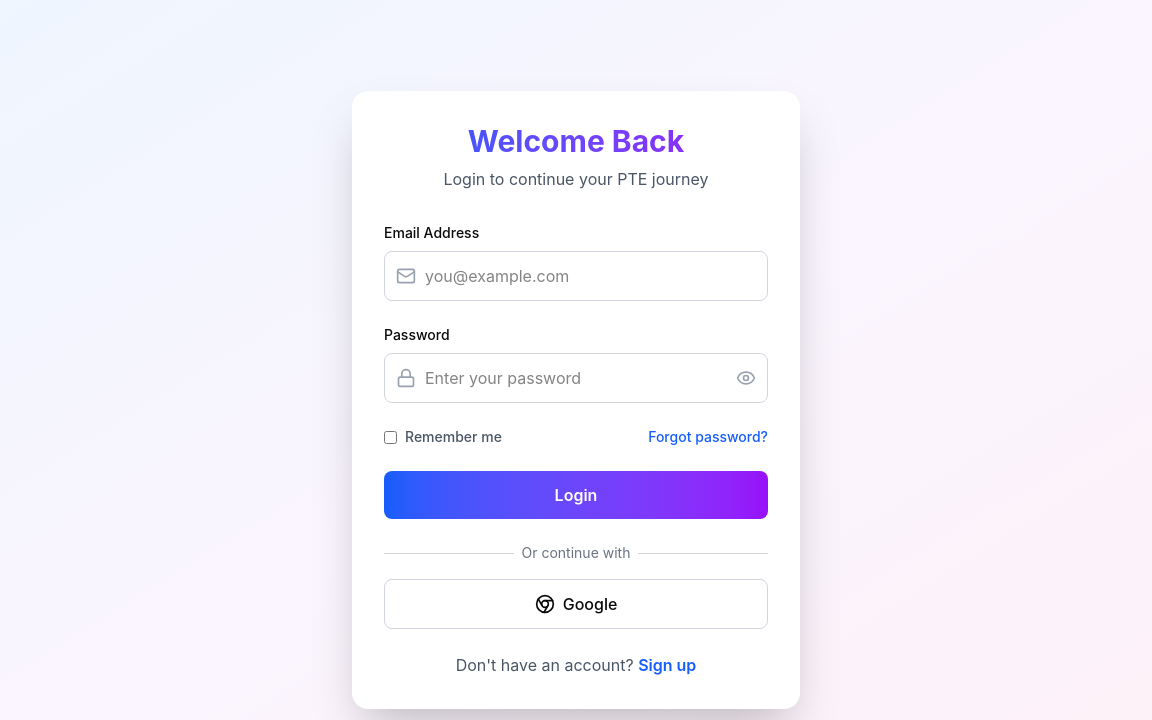
LoginPage - Forgot Password flow › switches to forgot password view on clicking 'Forgot password?'
The width and height of the screenshot is (1152, 720).
Step 1. Click the button "Forgot password?" → (708, 437), box [648,427,768,447]
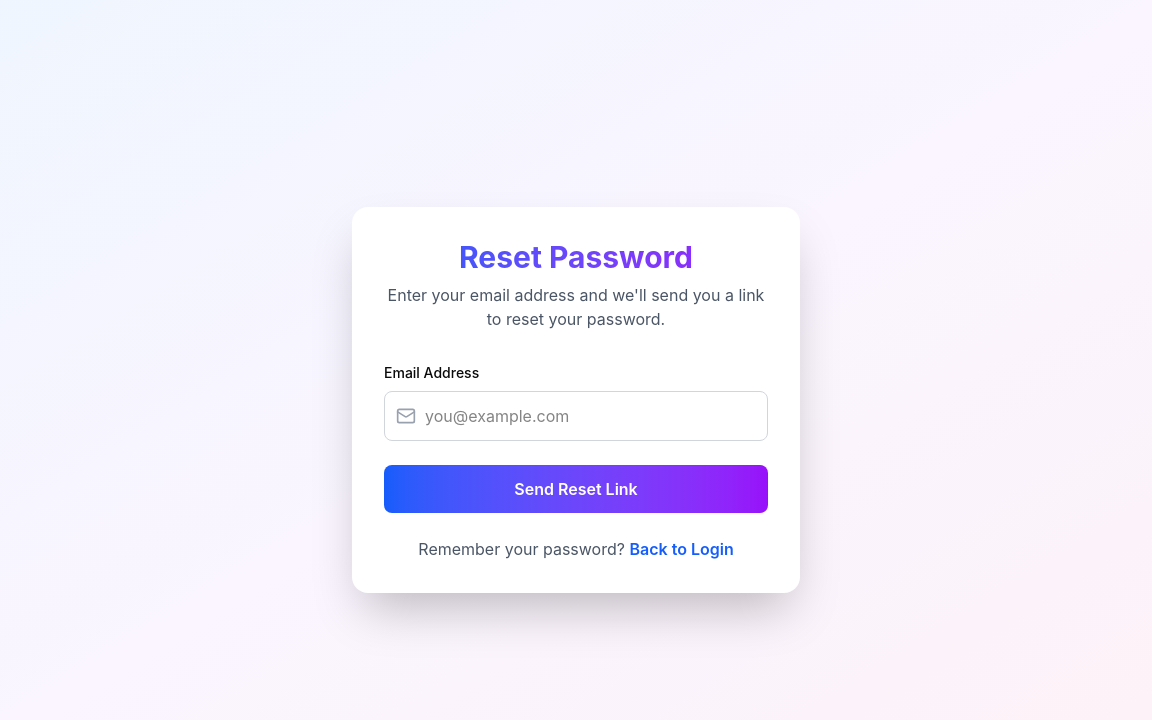
Result: the heading "Reset Password" is shown at [384,239,768,275]
